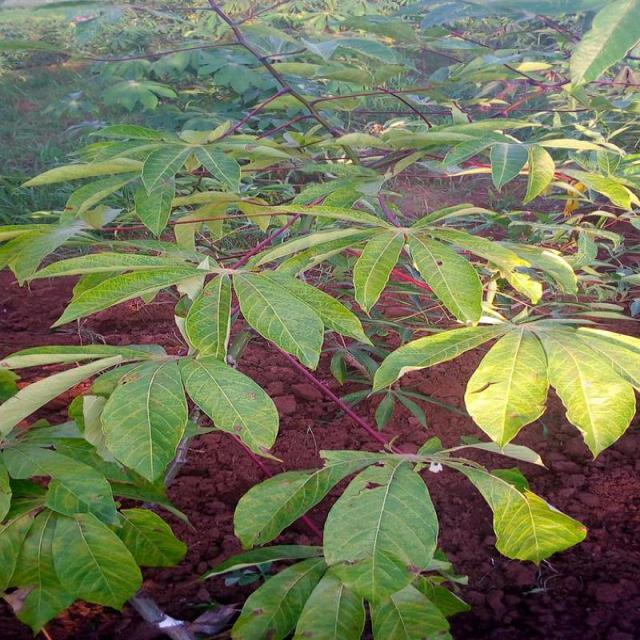cassava leaf: (0, 1, 638, 637), (322, 456, 439, 600), (544, 325, 636, 461), (98, 358, 188, 484), (463, 324, 549, 449), (179, 355, 280, 457)
